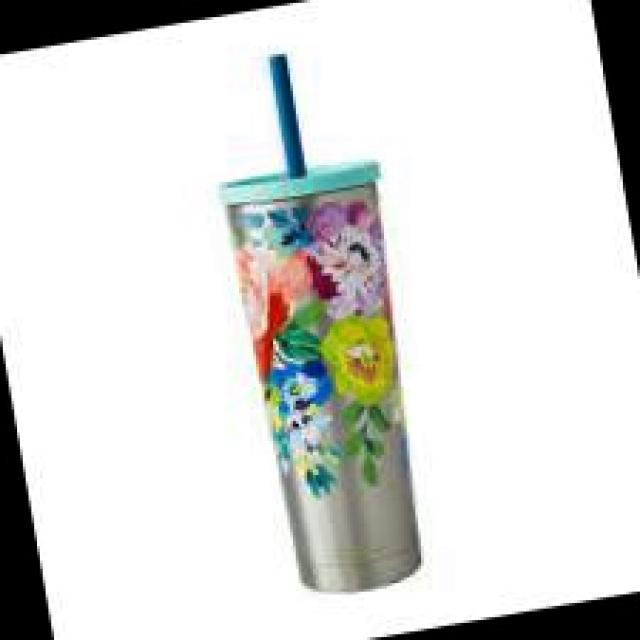bottle: (193, 36, 452, 598)
